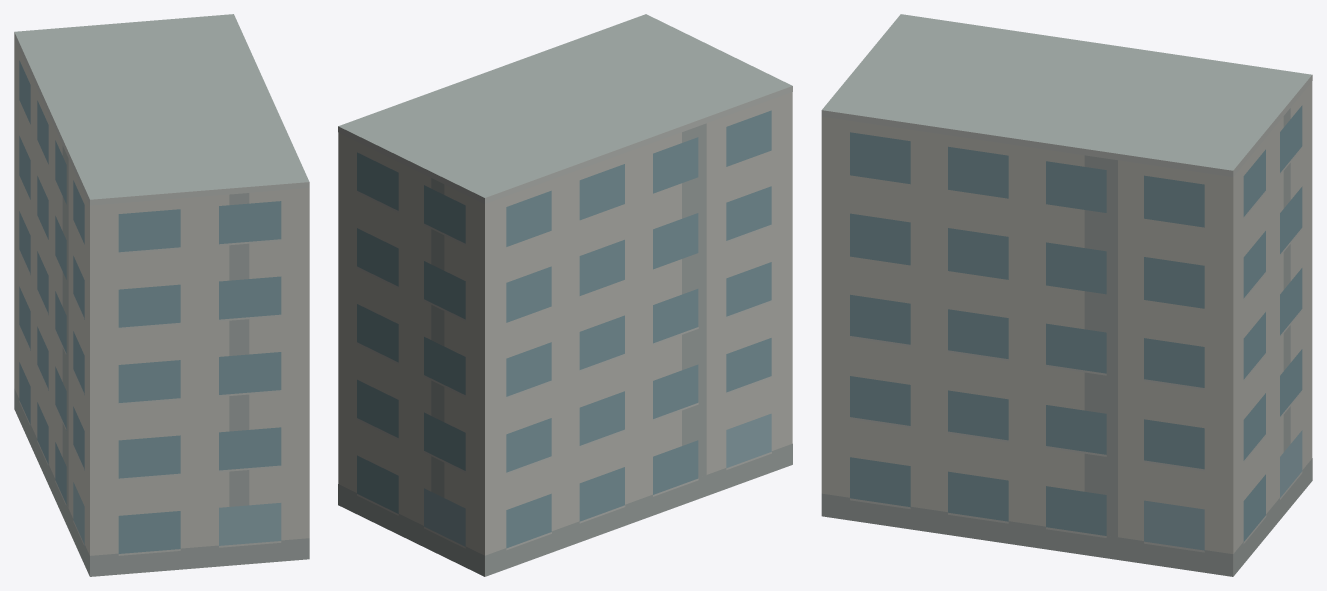
File: residential-0a5e9365-e8c5-4f28-b728-640d6e13c535.glb
3 renders of one model, left to right at view 1: azimuth 30°, elevation 25°; view 2: azimuth 150°, elevation 25°; view 3: azimuth 270°, elevation 25°, orthographic. The views are drawn at different scales.
Visible parts, largest first — view 1: residential-0a5e9365-e8c5-4f28-b728-640d6e13c535.tmp; view 2: residential-0a5e9365-e8c5-4f28-b728-640d6e13c535.tmp; view 3: residential-0a5e9365-e8c5-4f28-b728-640d6e13c535.tmp.
Part boxes in pixels (box(x1,y1,x2,y2)): residential-0a5e9365-e8c5-4f28-b728-640d6e13c535.tmp: box(14, 14, 309, 576); residential-0a5e9365-e8c5-4f28-b728-640d6e13c535.tmp: box(338, 14, 792, 576); residential-0a5e9365-e8c5-4f28-b728-640d6e13c535.tmp: box(821, 14, 1312, 576).
Size of the model in its own units: 12.63 by 15.25 by 16.71.
